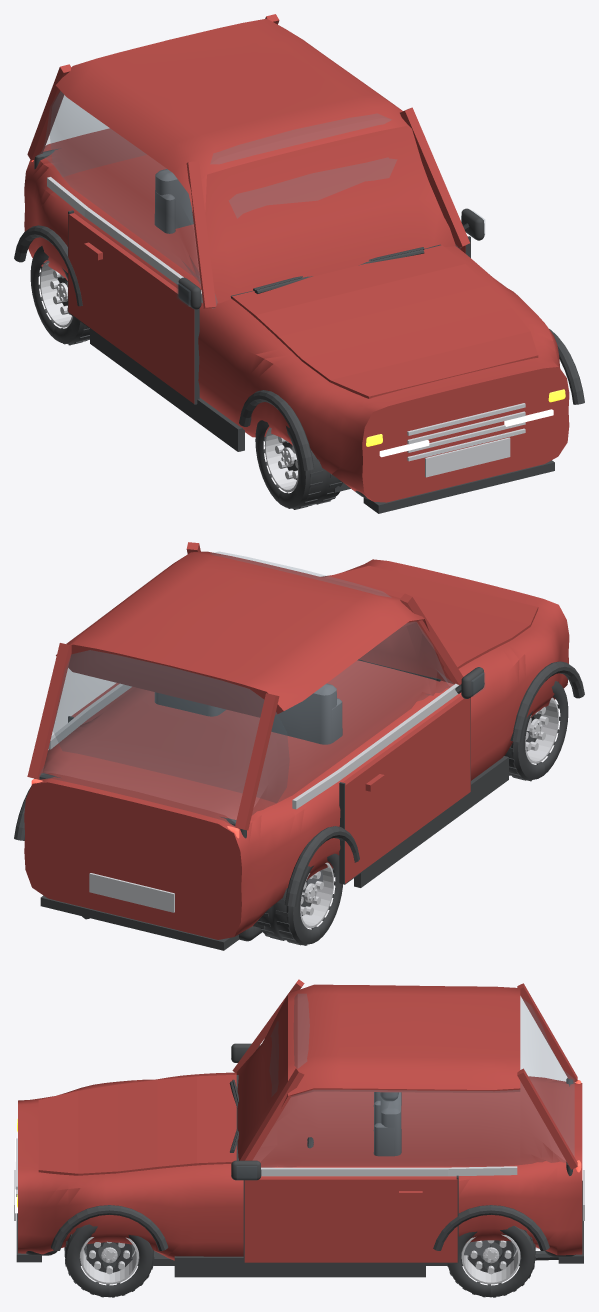
The model's file is type_classicmini.glb.
3 views of the same model, one above another, from view 1: azimuth 30°, elevation 25°; view 2: azimuth 150°, elevation 25°; view 3: azimuth 270°, elevation 25° (orthographic). The views are drawn at different scales.
Visible parts, largest first — view 1: city-car, bonnet, door-front-left, boot/glass, wheel-front-left/trim, wheel-rear-left/trim, wheel-front-left/alloy, wheel-rear-left/alloy; view 2: city-car, boot/glass, door-front-left, bonnet, wheel-rear-left/trim, wheel-front-left/trim, wheel-front-left/alloy, wheel-rear-left/alloy; view 3: city-car, door-front-right, bonnet, boot/glass, wheel-front-right/trim, wheel-rear-right/trim, wheel-rear-right/alloy, wheel-front-right/alloy.
Part boxes in pixels (bbox=[...]): city-car: bbox=[14, 14, 584, 513]; bonnet: bbox=[232, 245, 538, 398]; door-front-left: bbox=[68, 213, 194, 403]; boot/glass: bbox=[39, 91, 146, 176]; wheel-front-left/trim: bbox=[255, 420, 342, 509]; wheel-rear-left/trim: bbox=[30, 246, 89, 345]; wheel-front-left/alloy: bbox=[264, 427, 298, 492]; wheel-rear-left/alloy: bbox=[40, 260, 72, 327]; city-car: bbox=[14, 542, 584, 950]; boot/glass: bbox=[39, 650, 289, 826]; door-front-left: bbox=[343, 695, 470, 883]; bonnet: bbox=[325, 566, 538, 668]; wheel-rear-left/trim: bbox=[257, 853, 342, 945]; wheel-front-left/trim: bbox=[504, 681, 568, 781]; wheel-front-left/alloy: bbox=[525, 697, 558, 763]; wheel-rear-left/alloy: bbox=[300, 862, 334, 928]; city-car: bbox=[14, 979, 584, 1277]; door-front-right: bbox=[244, 1177, 457, 1262]; bonnet: bbox=[38, 1074, 236, 1175]; boot/glass: bbox=[520, 997, 574, 1164]; wheel-front-right/trim: bbox=[64, 1224, 154, 1297]; wheel-rear-right/trim: bbox=[446, 1226, 535, 1297]; wheel-rear-right/alloy: bbox=[461, 1234, 520, 1284]; wheel-front-right/alloy: bbox=[80, 1237, 138, 1284].
Bounding box in the file's own units: 1.83 × 1.53 × 3.59.
